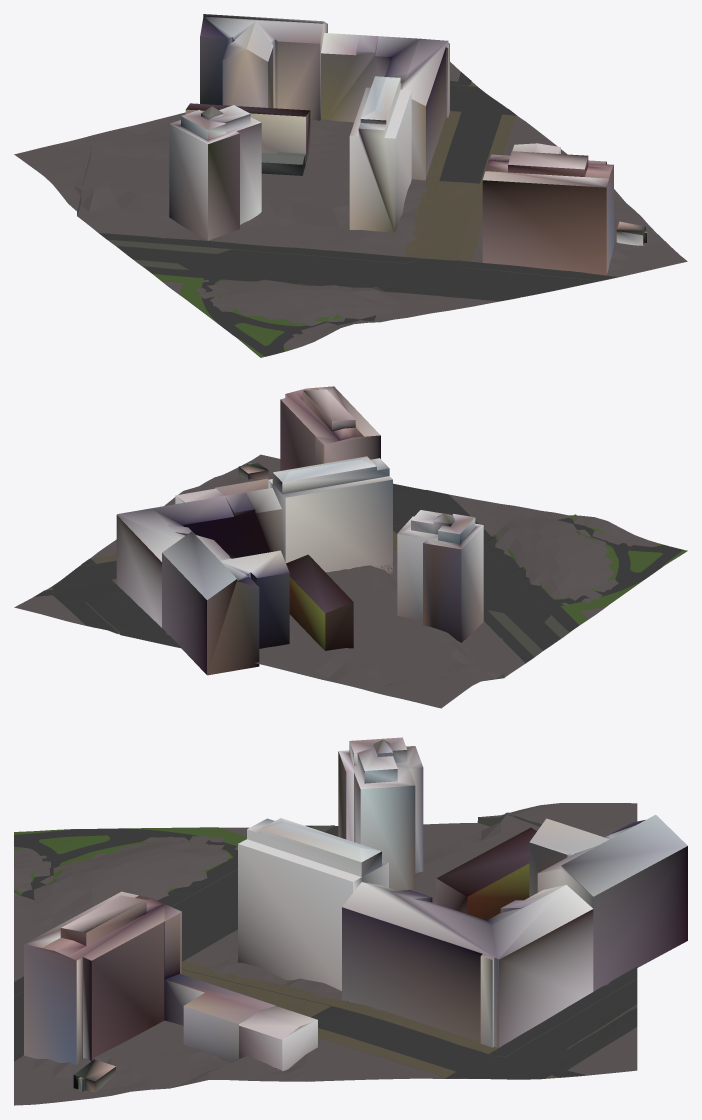
The picture shows the model from 3 angles, top to bottom: view 1: azimuth 30°, elevation 25°; view 2: azimuth 150°, elevation 25°; view 3: azimuth 270°, elevation 25°; orthographic projection. The views are drawn at different scales.
Visible parts, largest first — view 1: c_m03_m12; view 2: c_m03_m12; view 3: c_m03_m12.
Part boxes in pixels (x1=…): c_m03_m12: x1=14, y1=14, x2=687, y2=357; c_m03_m12: x1=14, y1=386, x2=687, y2=708; c_m03_m12: x1=14, y1=737, x2=687, y2=1105.
Bounding box in the file's own units: 128 × 36.89 × 138.
